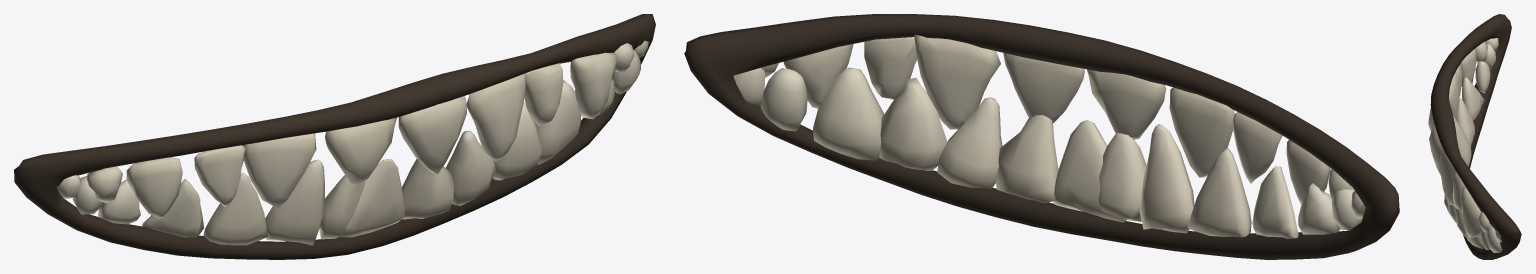
Rendered from devil_mouth1.fbx.
3 renders of one model, left to right at view 1: azimuth 30°, elevation 25°; view 2: azimuth 150°, elevation 25°; view 3: azimuth 270°, elevation 25°, orthographic. The views are drawn at different scales.
Visible parts, largest first — view 1: mouth4_polySurface1; view 2: mouth4_polySurface1; view 3: mouth4_polySurface1.
Part boxes in pixels (left/top/right/bottom): mouth4_polySurface1: left=14, top=14, right=655, bottom=259; mouth4_polySurface1: left=684, top=14, right=1399, bottom=259; mouth4_polySurface1: left=1428, top=14, right=1521, bottom=259.
Bounding box in the file's own units: 1.53 × 0.38 × 0.2924.
